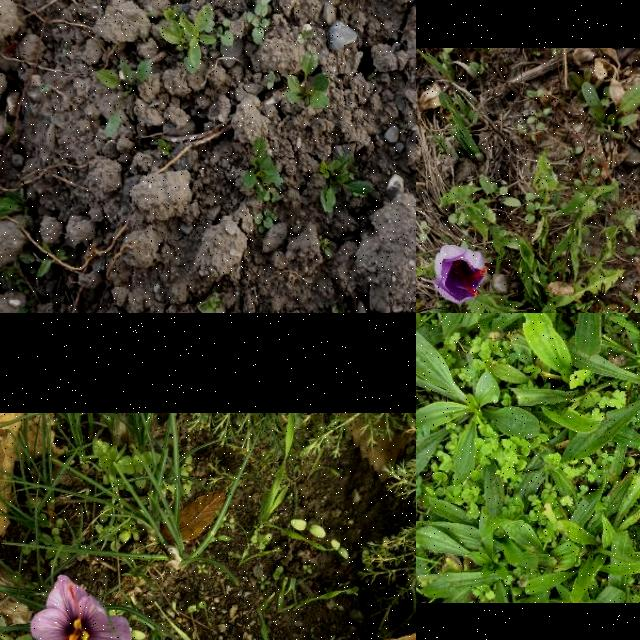flower: (30, 575, 132, 640), (432, 246, 488, 306)
